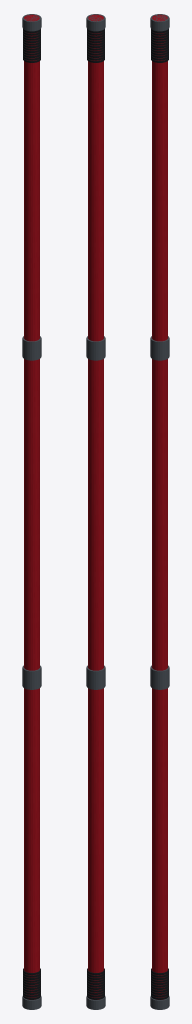
The model's file is playful_cloud_staff.obj.
The picture shows the model from 3 angles, left to right: view 1: azimuth 30°, elevation 25°; view 2: azimuth 150°, elevation 25°; view 3: azimuth 330°, elevation 25°; orthographic projection.
Size of the model in its own units: 0.0525 by 3 by 0.0525.
